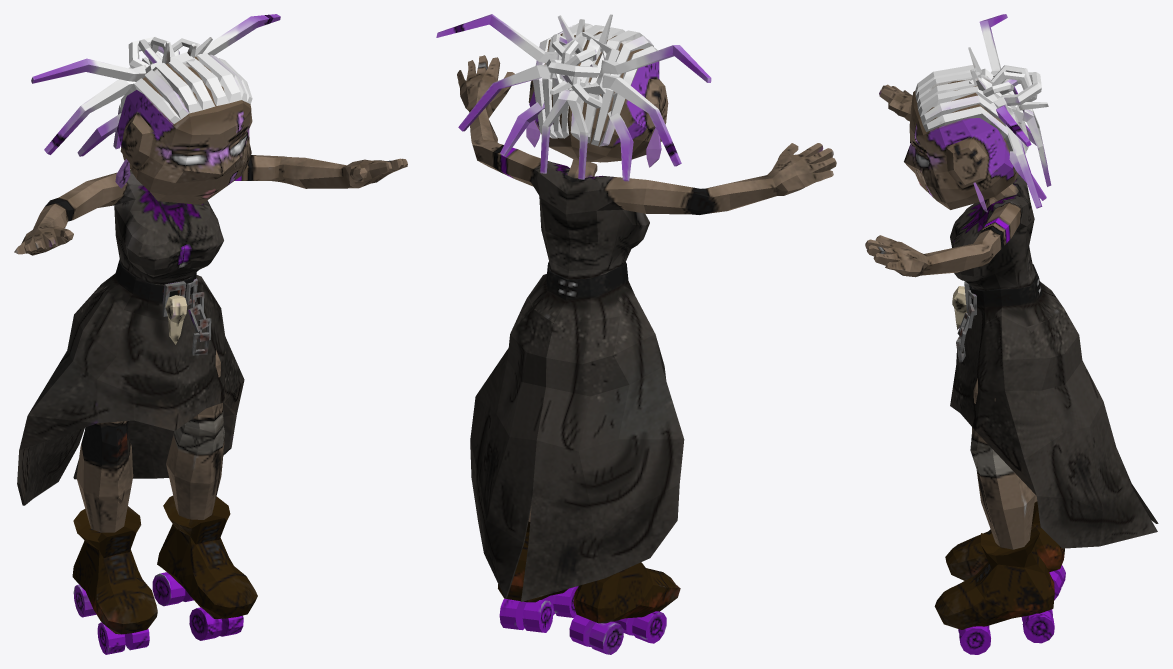
Rendered from bruja_000217.obj.
The picture shows the model from 3 angles, left to right: view 1: azimuth 30°, elevation 25°; view 2: azimuth 150°, elevation 25°; view 3: azimuth 270°, elevation 25°; orthographic projection. The views are drawn at different scales.
Visible parts, largest first — view 1: Bruja_Plane.001; view 2: Bruja_Plane.001; view 3: Bruja_Plane.001.
Boxes of the visible parts, left/top/right/bottom form: Bruja_Plane.001: left=14, top=14, right=407, bottom=654; Bruja_Plane.001: left=436, top=14, right=836, bottom=654; Bruja_Plane.001: left=865, top=14, right=1158, bottom=654.
Size of the model in its own units: 10.95 by 16.65 by 7.69.
